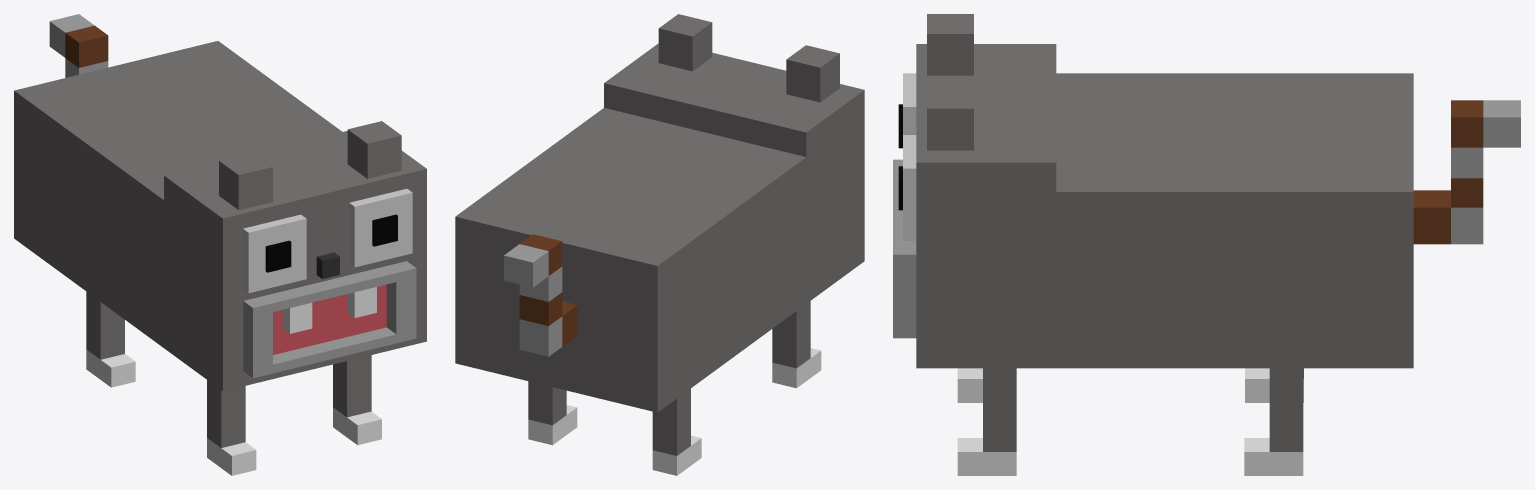
The model's file is cat_gray.fbx.
3 views of the same model, side by side, from view 1: azimuth 30°, elevation 25°; view 2: azimuth 150°, elevation 25°; view 3: azimuth 270°, elevation 25° (orthographic). The views are drawn at different scales.
Parts seen in each view (by area): view 1: Cube, Cube.005, Cube.001, Cube.002, Cube.011, Cube.006, Cube.010, Cube.013, Cube.014, Cube.015, Cube.016, Cube.007 (+4 smaller); view 2: Cube, Cube.014, Cube.013, Cube.011, Cube.015, Cube.016, Cube.012; view 3: Cube, Cube.014, Cube.012, Cube.010, Cube.005, Cube.015, Cube.016, Cube.002, Cube.011, Cube.013, Cube.001.
Part boxes in pixels (x1,y1,x2,y2): Cube: (14, 41, 426, 391); Cube.005: (243, 261, 416, 378); Cube.001: (243, 214, 306, 293); Cube.002: (349, 188, 412, 267); Cube.011: (207, 380, 256, 475); Cube.006: (273, 284, 386, 354); Cube.010: (333, 355, 381, 445); Cube.013: (86, 291, 135, 387); Cube.014: (49, 14, 108, 77); Cube.015: (347, 121, 401, 178); Cube.016: (219, 152, 272, 209); Cube.007: (282, 302, 312, 333); Cube: (455, 43, 864, 412); Cube.014: (504, 234, 577, 356); Cube.013: (652, 388, 701, 475); Cube.011: (772, 301, 821, 388); Cube.015: (658, 14, 712, 71); Cube.016: (786, 45, 839, 102); Cube.012: (528, 381, 577, 445); Cube: (916, 44, 1413, 368); Cube.014: (1413, 100, 1520, 244); Cube.012: (1244, 368, 1303, 475); Cube.010: (957, 368, 1016, 475); Cube.005: (893, 159, 916, 338); Cube.015: (927, 88, 973, 150); Cube.016: (927, 14, 973, 75); Cube.002: (903, 135, 916, 240); Cube.011: (957, 368, 982, 402); Cube.013: (1245, 368, 1303, 402); Cube.001: (903, 73, 916, 134).
Bounding box in the file's own units: 200 × 292 × 447.
